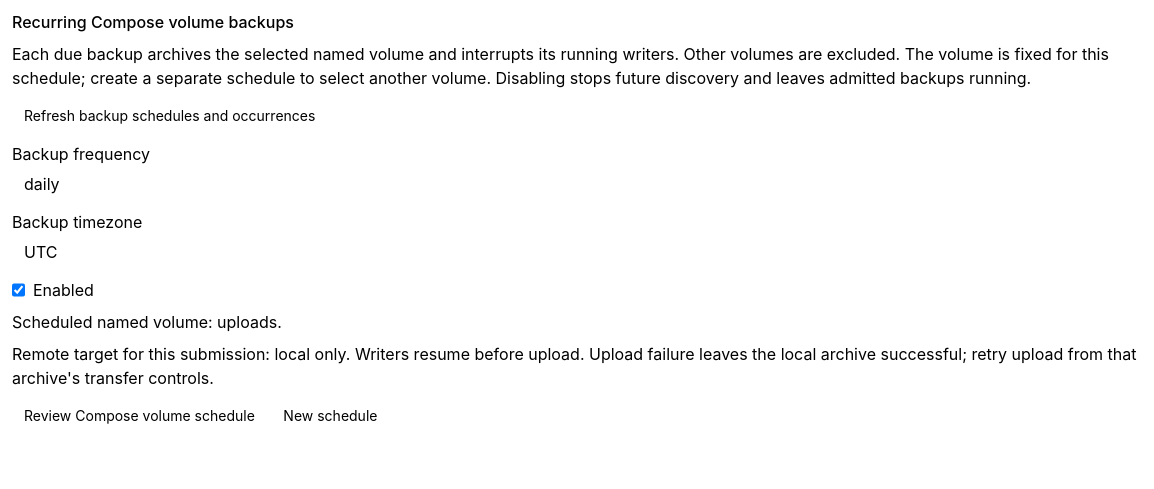
unavailable or stale Compose evidence cannot produce a schedule review
Click the button "Review Compose volume schedule".
click(139, 416)  # box [12, 398, 267, 434]
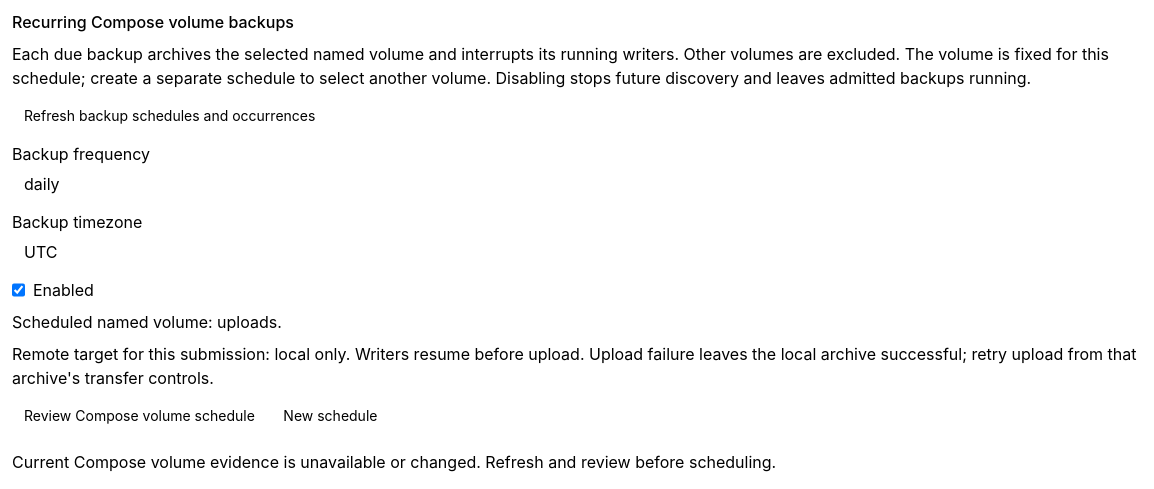
Expected: the text "Current Compose volume evidence is unavailable" is shown, [12, 452, 776, 472]
